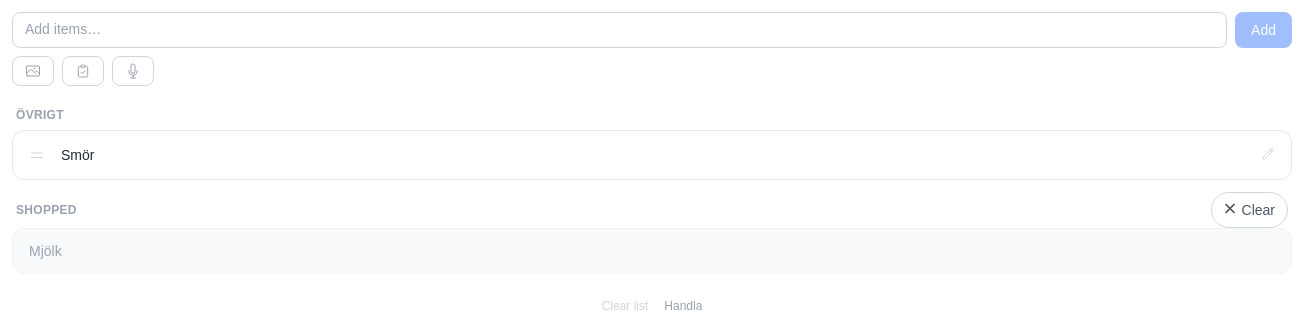
it: ItemList — smoke tests › shows progress bar in store mode when items exist
// Activate store mode
Click the button "Handla" at (683, 306), box [664,298,702,314]
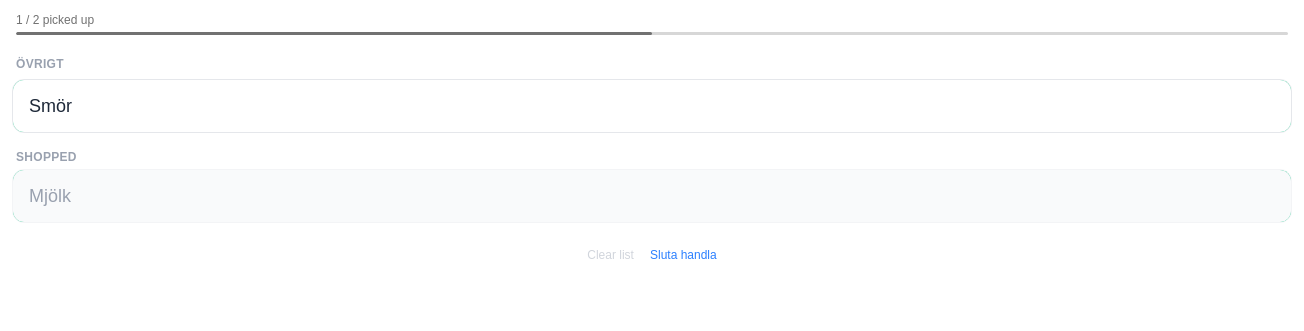
Expected: the progress indicator is shown, [16,32,652,35]
Expected: the text "1 / 2 picked up" is shown, [16,13,94,27]
